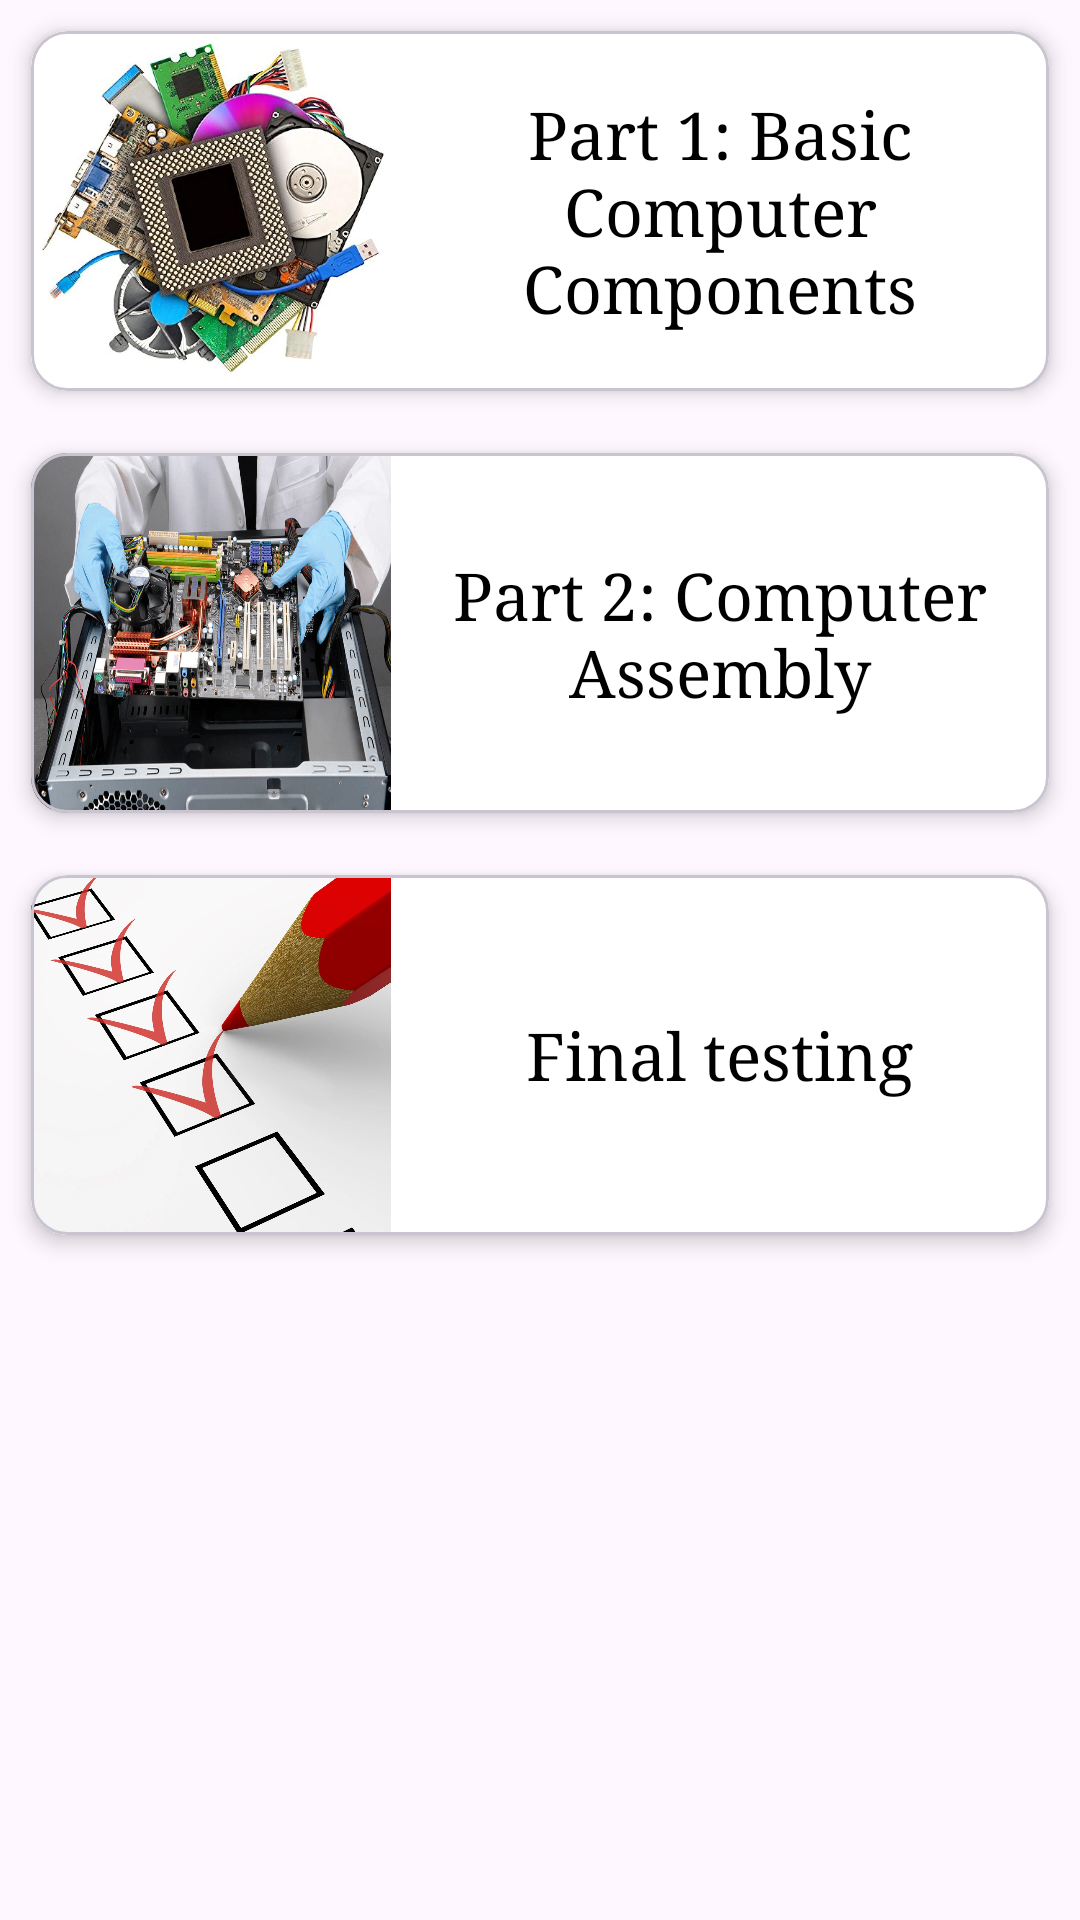

Point at icon controls on the screen. Image size 1080px×1920px, points as (x=x, y=y).
studybuildimage: (x=211, y=633)
studylessons: (x=211, y=211)
studytest: (x=211, y=1055)
